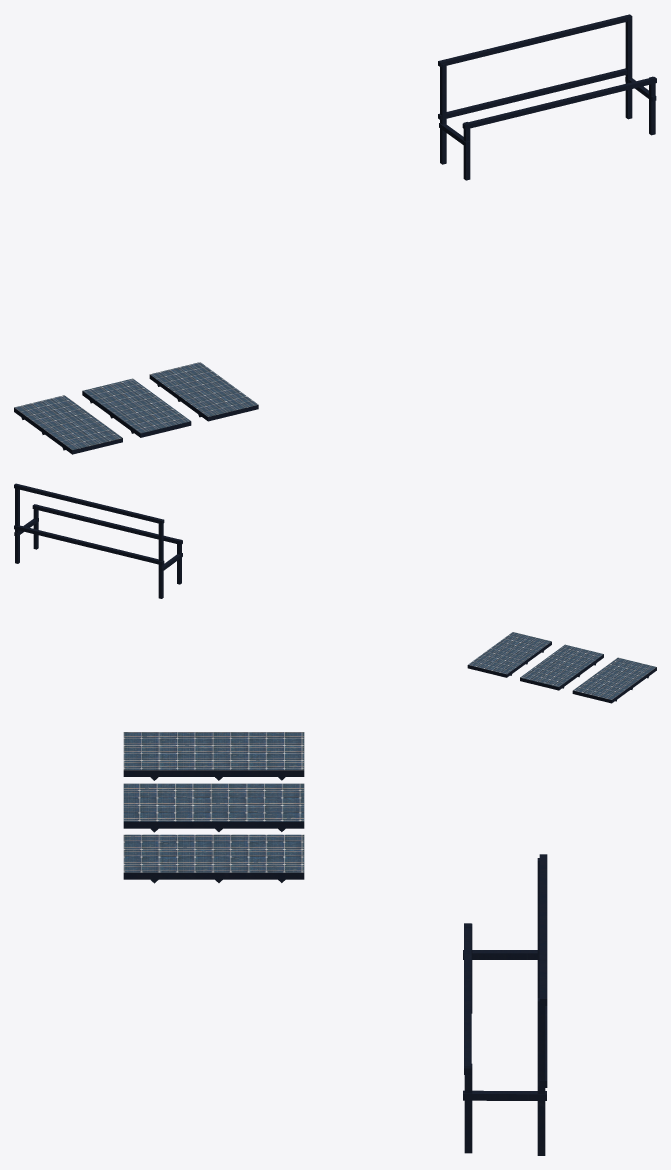
File: solar.fbx
The picture shows the model from 3 angles, top to bottom: view 1: azimuth 30°, elevation 25°; view 2: azimuth 150°, elevation 25°; view 3: azimuth 270°, elevation 25°; orthographic projection. The views are drawn at different scales.
Visible parts, largest first — view 1: solar pannel stand 1, solar pannel 2, solar pannel 1, solar pannel 3; view 2: solar pannel stand 1, solar pannel 3, solar pannel 2, solar pannel 1; view 3: solar pannel 2, solar pannel 1, solar pannel 3, solar pannel stand 1.
Part boxes in pixels (<box>): solar pannel stand 1: <box>438,14,656,180</box>; solar pannel 2: <box>82,378,191,437</box>; solar pannel 1: <box>149,362,258,421</box>; solar pannel 3: <box>14,395,122,454</box>; solar pannel stand 1: <box>14,483,182,598</box>; solar pannel 3: <box>572,657,656,703</box>; solar pannel 2: <box>520,644,603,690</box>; solar pannel 1: <box>467,632,551,677</box>; solar pannel 2: <box>123,783,304,832</box>; solar pannel 1: <box>123,834,304,883</box>; solar pannel 3: <box>123,732,304,780</box>; solar pannel stand 1: <box>463,854,547,1155</box>.
Size of the model in its own units: 867 by 208 by 296.
